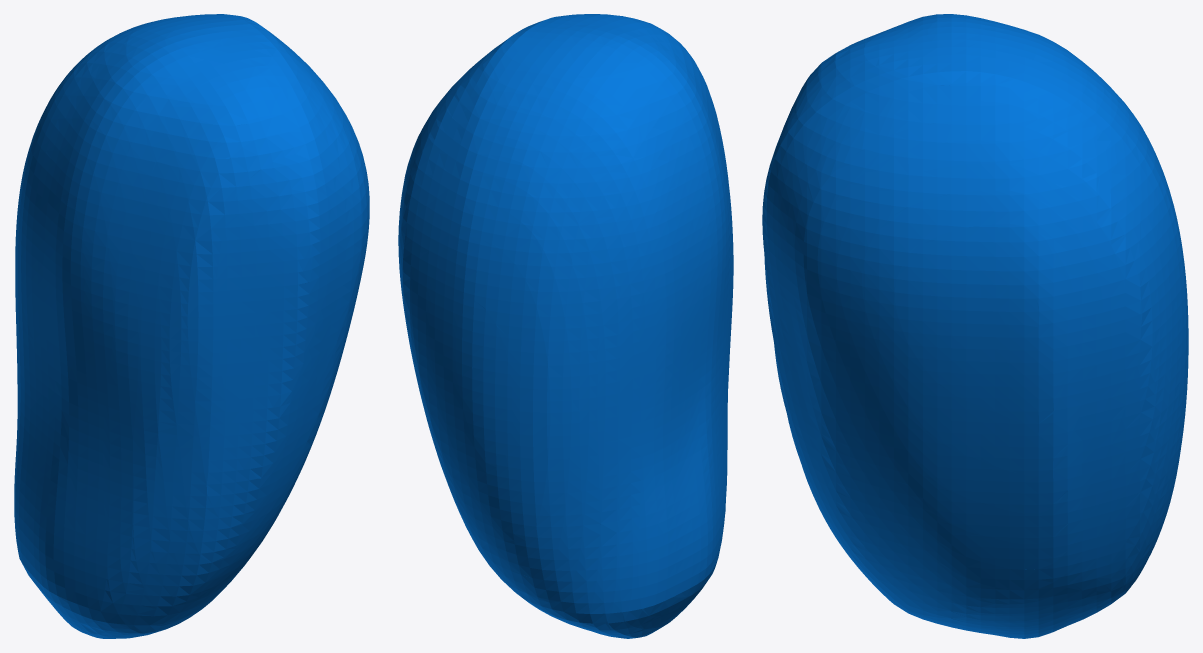
The model's file is hand_part_3.glb.
The picture shows the model from 3 angles, left to right: view 1: azimuth 30°, elevation 25°; view 2: azimuth 150°, elevation 25°; view 3: azimuth 270°, elevation 25°; orthographic projection. The views are drawn at different scales.
Size of the model in its own units: 0.0145 by 0.0279 by 0.0171.
